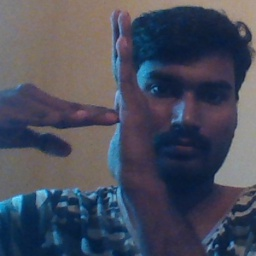Z: (30, 6, 168, 178)
